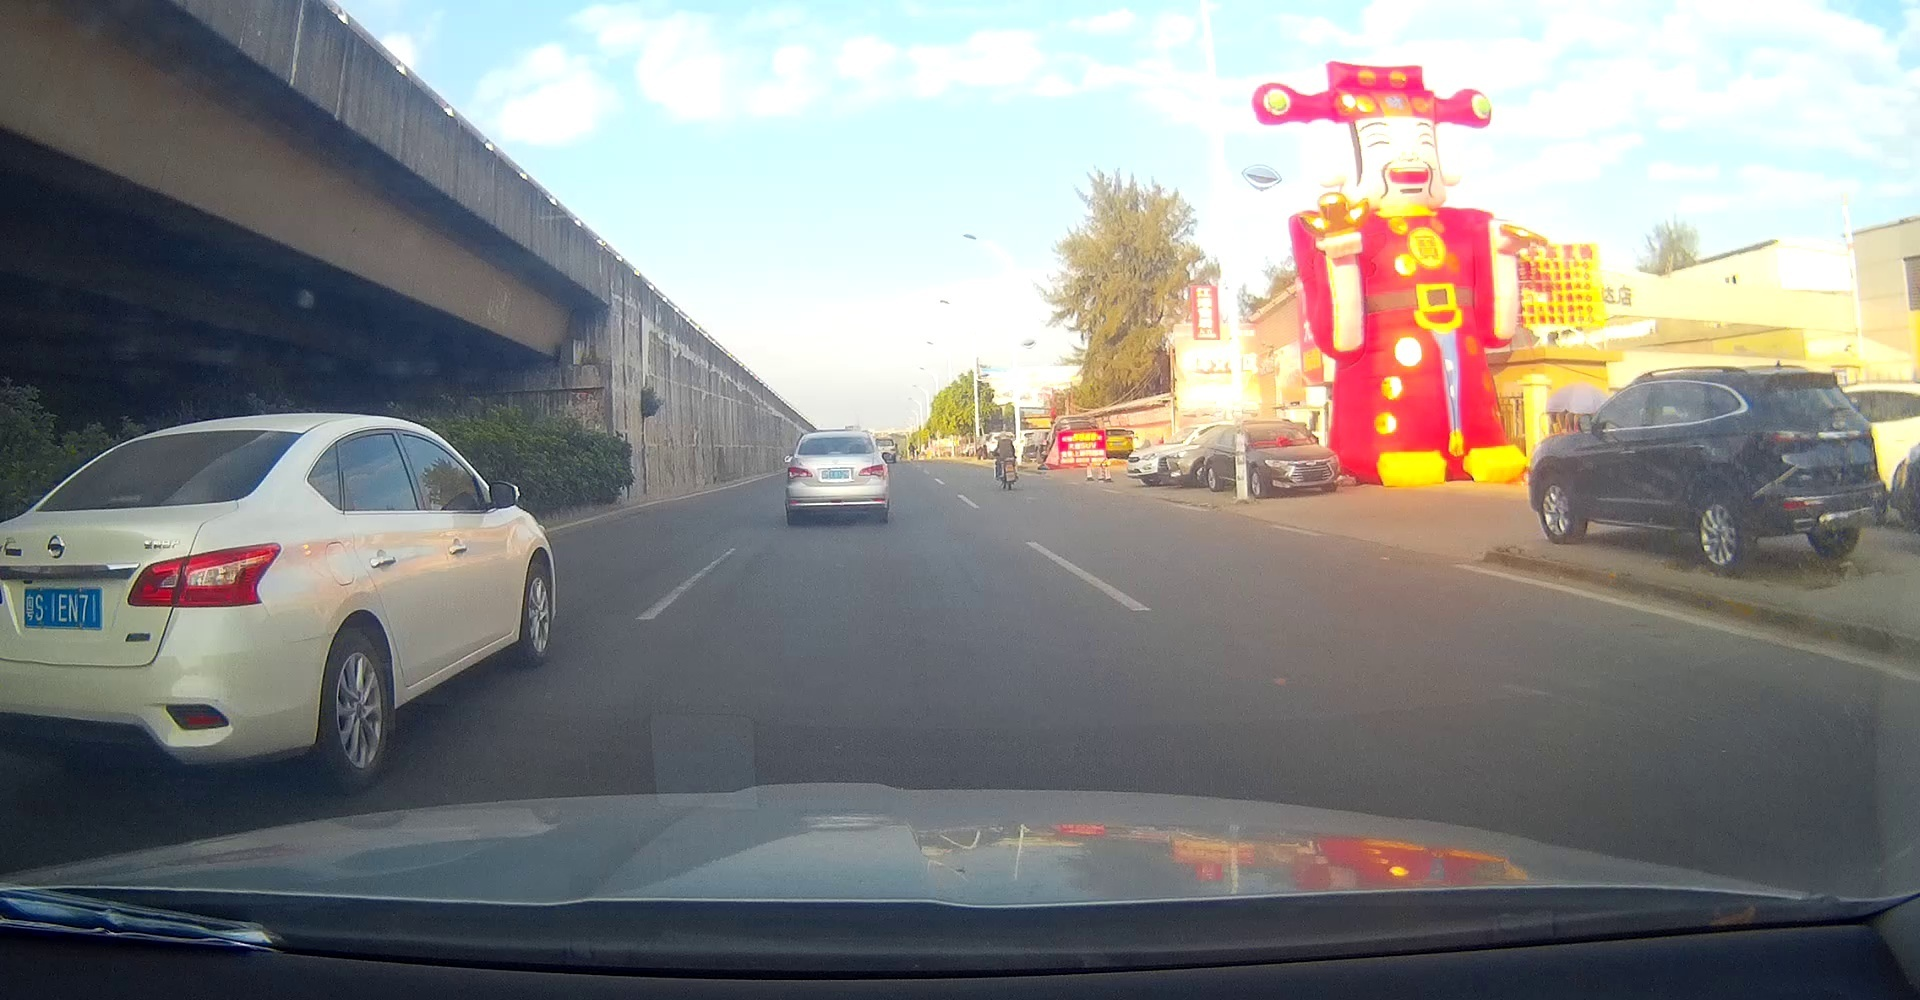L_light: (1752, 430, 1816, 452), (787, 467, 811, 478)
R_light: (858, 464, 886, 477), (1858, 424, 1874, 443)
T_light: (1796, 377, 1815, 383), (825, 451, 844, 454)
day-no: (1750, 365, 1890, 572), (785, 430, 889, 524)
